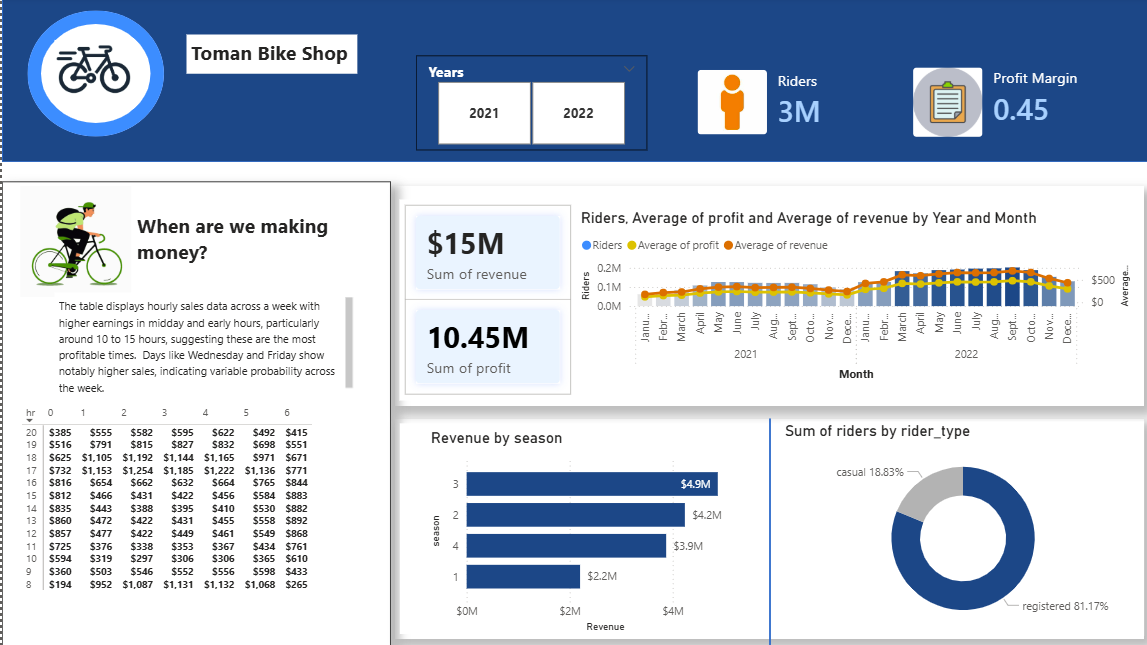

Layout of this report page (visuals, bound fields, positions):
{"tool":"powerbi","page":{"name":"Page 1","canvas":[1280,720],"ordinal":0},"visuals":[{"type":"shape","box":[0,0,1268.9,182.2],"z":0},{"type":"cardVisual","fields":{"Data":["Min(Query1.riders)"]},"box":[434,208.7,828.2,243.5],"z":1000},{"type":"cardVisual","fields":{"Data":["Min(Query1.riders)"]},"box":[0,203.7,429,516.8],"z":2000},{"type":"image","box":[0,208.7,162.3,122.6],"z":3000},{"type":"pivotTable","fields":{"Rows":["Query1.hr"],"Values":["Avg(Query1.revenue)"],"Columns":["Query1.weekday"]},"box":[16.6,445.6,374.4,275],"z":4000},{"type":"textbox","box":[144.1,231.9,226.9,76.2],"z":5000},{"type":"textbox","box":[58,326.3,334.6,114.3],"z":6000},{"type":"lineClusteredColumnComboChart","fields":{"Y":["Sum(Query1.riders)"],"Category":["Query1.dteday.Variation.Date Hierarchy.Year","Query1.dteday.Variation.Date Hierarchy.Month","Query1.dteday.Variation.Date Hierarchy.Day"],"Y2":["Avg(Query1.profit)","Avg(Query1.revenue)"]},"box":[634.4,233.6,616.2,195.5],"z":7000},{"type":"cardVisual","fields":{"Data":["Min(Query1.riders)"]},"box":[434,465.5,828.2,243.5],"z":8000},{"type":"clusteredBarChart","fields":{"Category":["Query1.season"],"Y":["Sum(Query1.revenue)"]},"box":[468.8,477.1,367.7,228.6],"z":9000},{"type":"donutChart","fields":{"Category":["Query1.rider_type"],"Y":["Sum(Query1.riders)"]},"box":[859.7,468.8,402.5,236.9],"z":10000},{"type":"shape","box":[836.5,465.5,23.2,250.1],"z":11000},{"type":"cardVisual","fields":{"Data":["Sum(Query1.revenue)","Sum(Query1.profit)"]},"box":[439,223.6,195.5,222],"z":12000},{"type":"cardVisual","fields":{"Data":["Sum(Query1.riders)","Query1.Profit Margin"]},"box":[738.8,29.8,511.9,173.9],"z":13000},{"type":"shape","box":[28.2,14.9,150.7,139.1],"z":14000},{"type":"textbox","box":[203.7,41.4,188.8,43.1],"z":15000},{"type":"image","box":[58,41.4,86.1,76.2],"z":16000},{"type":"slicer","fields":{"Values":["Query1.Years"]},"box":[457.2,64.6,255.1,104.4],"z":17000}]}

Visuals, with their boxes in screenshot pixels (x1, y1, x2, y2), scaled from the page's 1280x720 canvas onto the 1147x645 screenshot:
shape: (x1=0, y1=0, x2=1137, y2=163)
cardVisual - Min(Query1.riders): (x1=389, y1=187, x2=1131, y2=405)
cardVisual - Min(Query1.riders): (x1=0, y1=182, x2=384, y2=644)
image: (x1=0, y1=187, x2=145, y2=297)
pivotTable - Query1.hr x Avg(Query1.revenue): (x1=15, y1=399, x2=350, y2=644)
textbox: (x1=129, y1=208, x2=332, y2=276)
textbox: (x1=52, y1=292, x2=352, y2=395)
lineClusteredColumnComboChart - Sum(Query1.riders) x Query1.dteday.Variation.Date Hierarchy.Year: (x1=568, y1=209, x2=1121, y2=384)
cardVisual - Min(Query1.riders): (x1=389, y1=417, x2=1131, y2=635)
clusteredBarChart - Query1.season x Sum(Query1.revenue): (x1=420, y1=427, x2=750, y2=632)
donutChart - Query1.rider_type x Sum(Query1.riders): (x1=770, y1=420, x2=1131, y2=632)
shape: (x1=750, y1=417, x2=770, y2=641)
cardVisual - Sum(Query1.revenue) x Sum(Query1.profit): (x1=393, y1=200, x2=569, y2=399)
cardVisual - Sum(Query1.riders) x Query1.Profit Margin: (x1=662, y1=27, x2=1121, y2=182)
shape: (x1=25, y1=13, x2=160, y2=138)
textbox: (x1=183, y1=37, x2=352, y2=76)
image: (x1=52, y1=37, x2=129, y2=105)
slicer - Query1.Years: (x1=410, y1=58, x2=638, y2=151)
